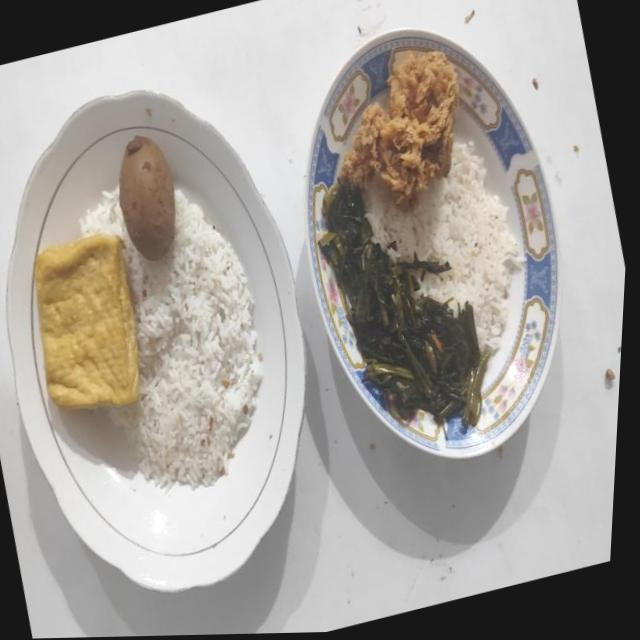nasi_putih: (81, 190, 262, 488), (363, 142, 524, 348)
tahu_goreng: (34, 233, 139, 408)
tumis_kangkung: (317, 182, 490, 430)
